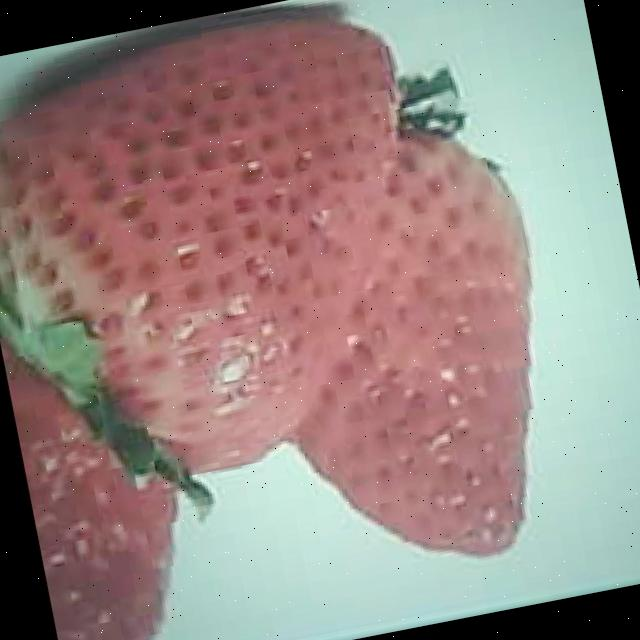strawberry: (0, 0, 459, 502), (216, 81, 580, 594)
